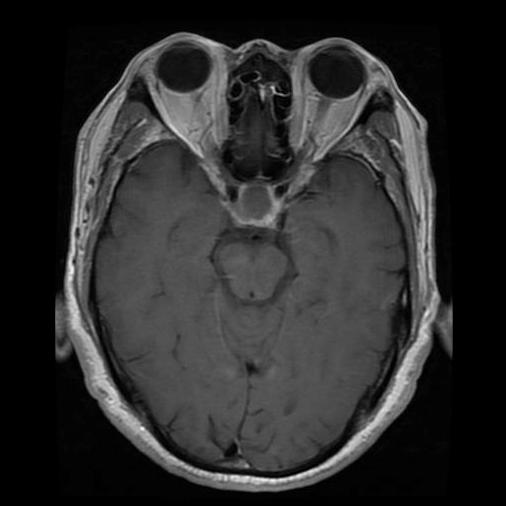Tumour-Pituitary: (226, 183, 284, 231)
